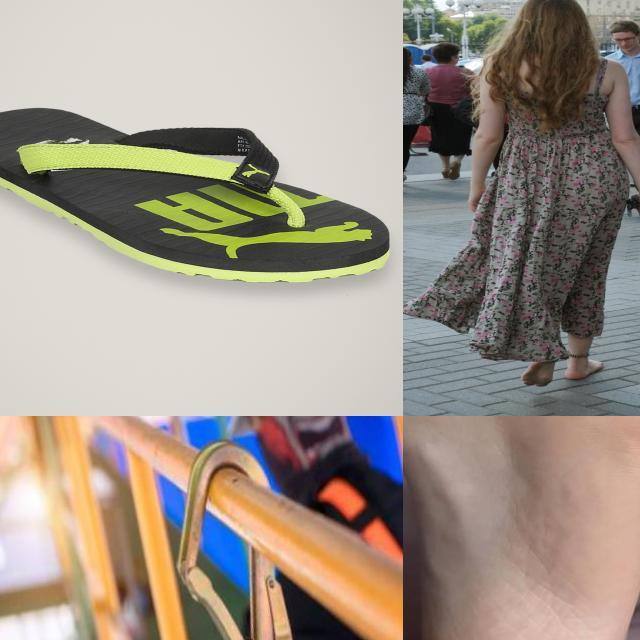Barefoots: (403, 416, 640, 640), (574, 416, 640, 613), (521, 352, 562, 387), (564, 359, 604, 380)
Harness: (178, 441, 292, 640)
Sandals: (0, 106, 392, 285)
